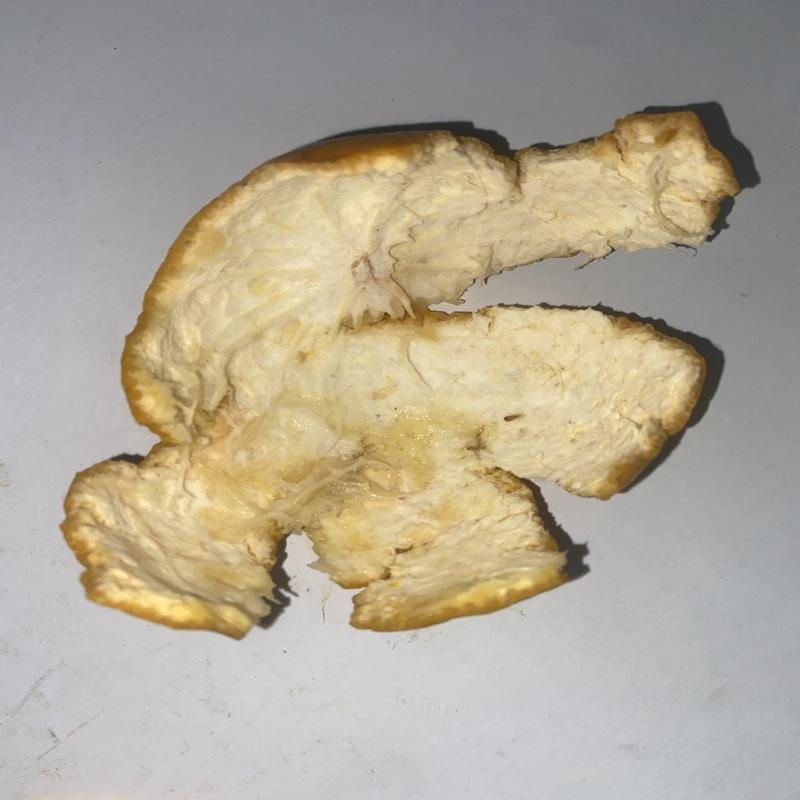fruit peels: (58, 103, 763, 643)
